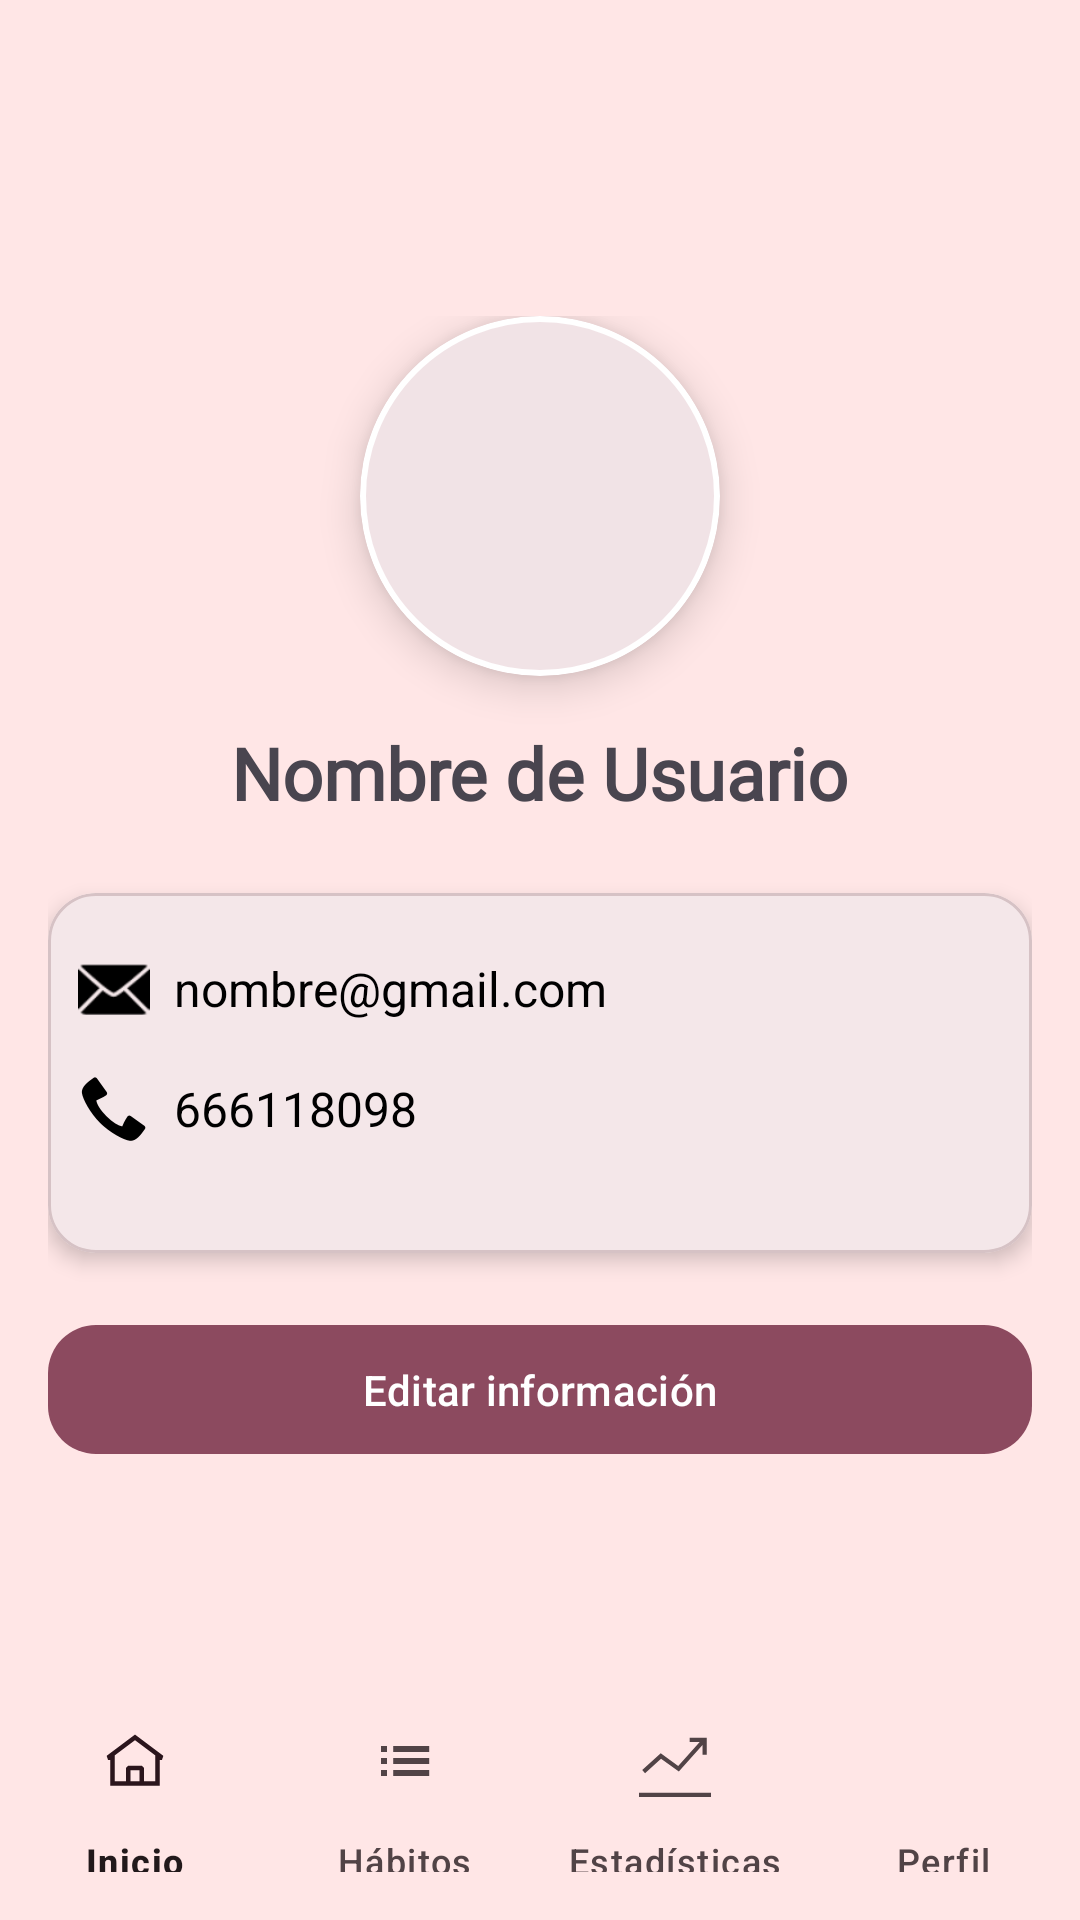

Named icons in this screenshot (1080×1920) and their bounding boxes, {"left": x1, "top": y1, "right": x2, "bottom": y2}:
email: {"left": 78, "top": 964, "right": 150, "bottom": 1015}
phone call: {"left": 82, "top": 1077, "right": 146, "bottom": 1141}
